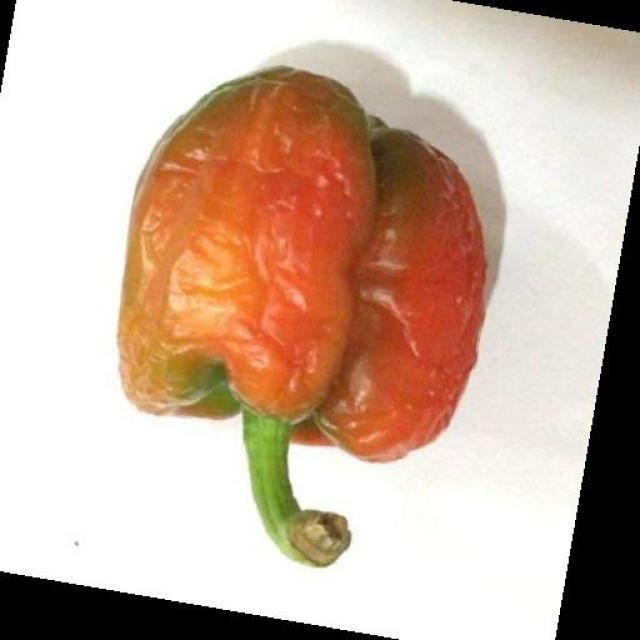Stale_Capsicum: (121, 72, 487, 551)
